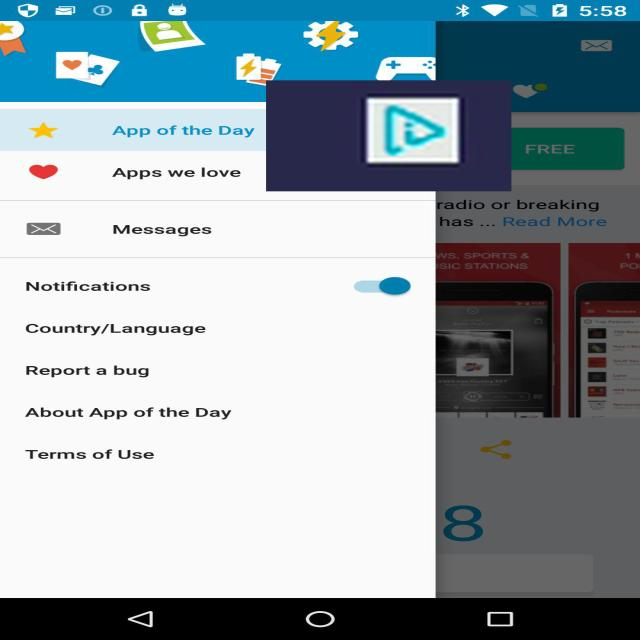sneaking: (266, 80, 511, 192)
